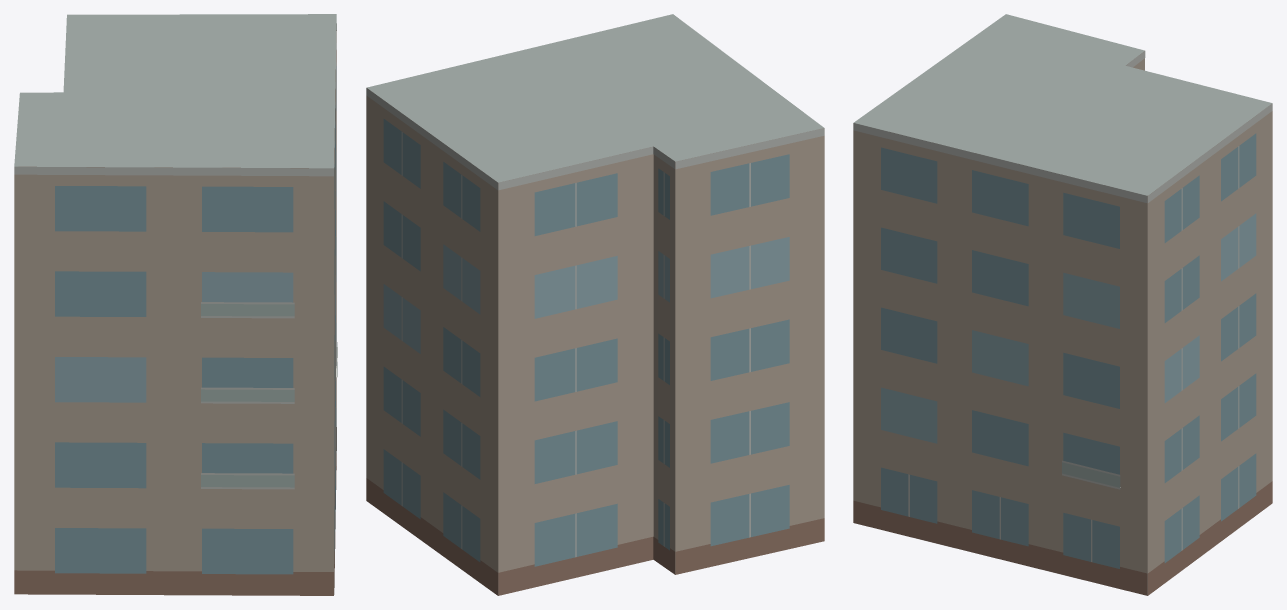
Rendered from survey-upis-32675833.glb.
3 views of the same model, side by side, from view 1: azimuth 30°, elevation 25°; view 2: azimuth 150°, elevation 25°; view 3: azimuth 270°, elevation 25° (orthographic). The views are drawn at different scales.
Parts seen in each view (by area): view 1: survey-upis-32675833.tmp; view 2: survey-upis-32675833.tmp; view 3: survey-upis-32675833.tmp.
Part boxes in pixels (x1=…): survey-upis-32675833.tmp: x1=14, y1=14, x2=337, y2=595; survey-upis-32675833.tmp: x1=366, y1=14, x2=824, y2=595; survey-upis-32675833.tmp: x1=853, y1=14, x2=1272, y2=595.
Size of the model in its own units: 12.66 by 12.98 by 12.34.
